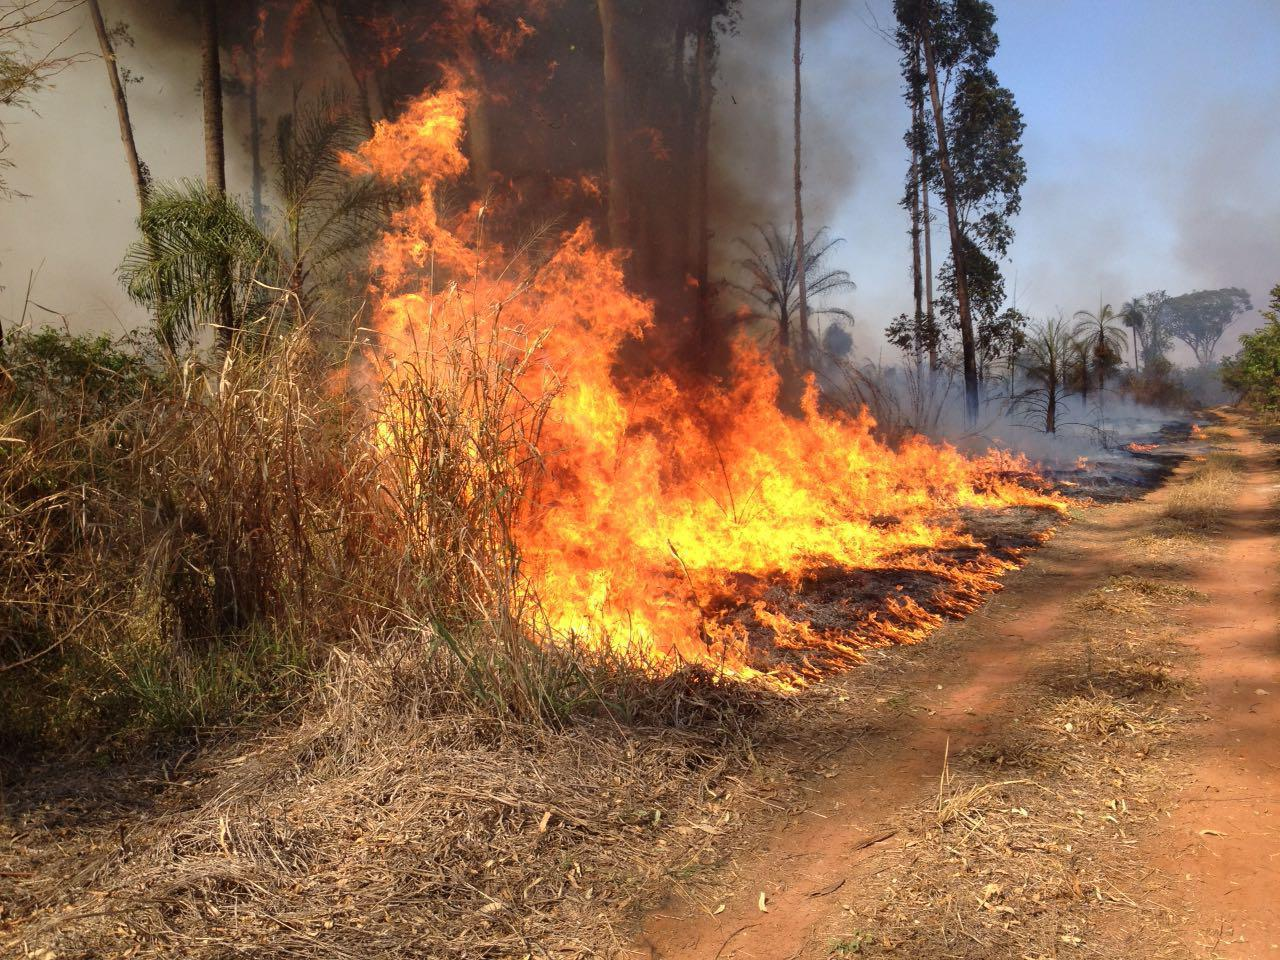Fire: (334, 66, 1112, 685)
